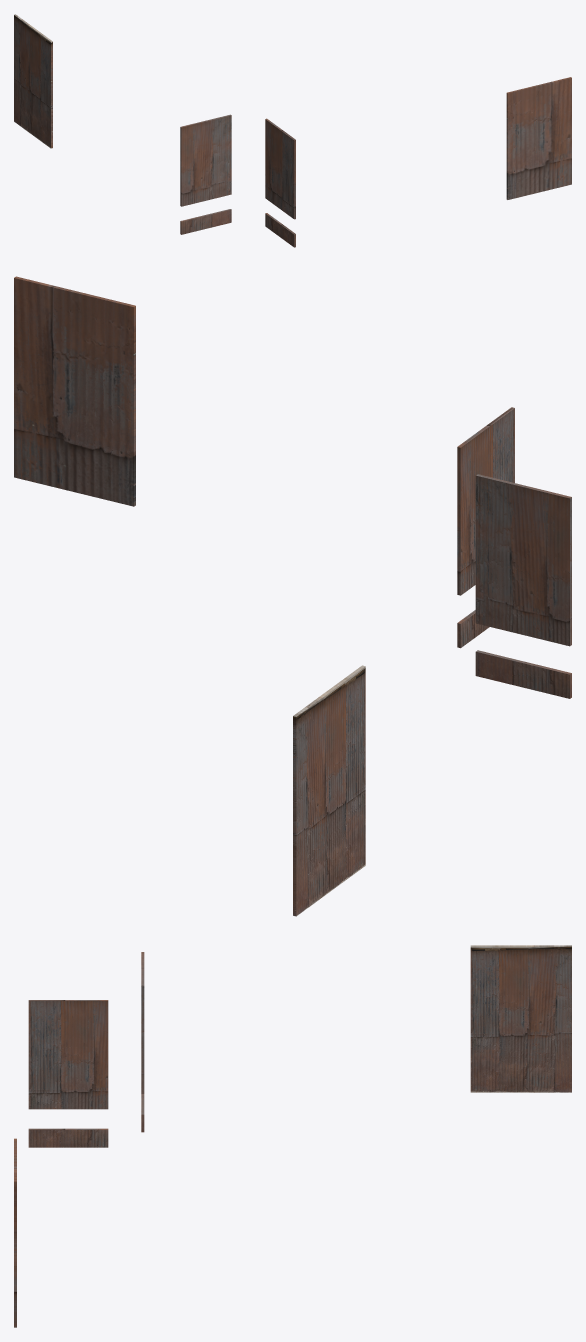
The model's file is SM_NeoLD_04_Toles_00.fbx.
The picture shows the model from 3 angles, top to bottom: view 1: azimuth 30°, elevation 25°; view 2: azimuth 150°, elevation 25°; view 3: azimuth 270°, elevation 25°; orthographic projection. The views are drawn at different scales.
Parts seen in each view (by area): view 1: SM_NeoLD_04_Toles_00; view 2: SM_NeoLD_04_Toles_00; view 3: SM_NeoLD_04_Toles_00.
Boxes of the visible parts, bbox=[...] form: SM_NeoLD_04_Toles_00: bbox=[14, 14, 571, 247]; SM_NeoLD_04_Toles_00: bbox=[14, 276, 571, 916]; SM_NeoLD_04_Toles_00: bbox=[14, 945, 571, 1327].
Bounding box in the file's own units: 1177 × 341 × 1175.
